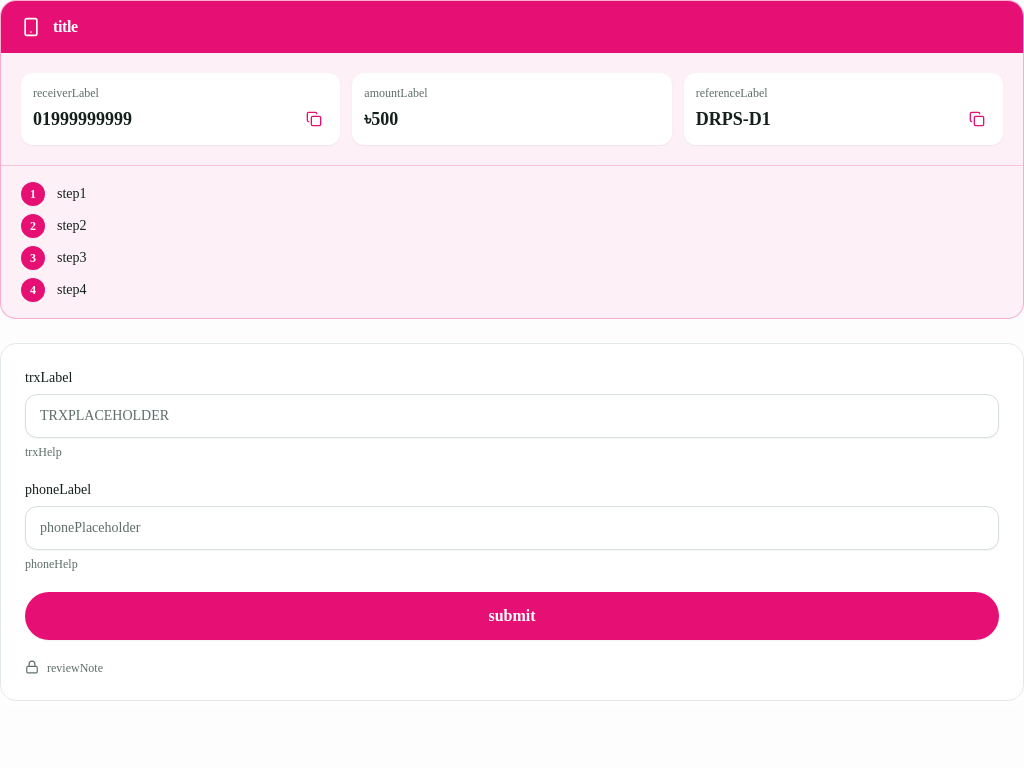
Scenario: TrxForm › shows the translated message for a reused TrxID
Type "BK8XQ2M1ZP" into the field labelled "trxLabel" at (512, 416), box [25, 394, 999, 438]
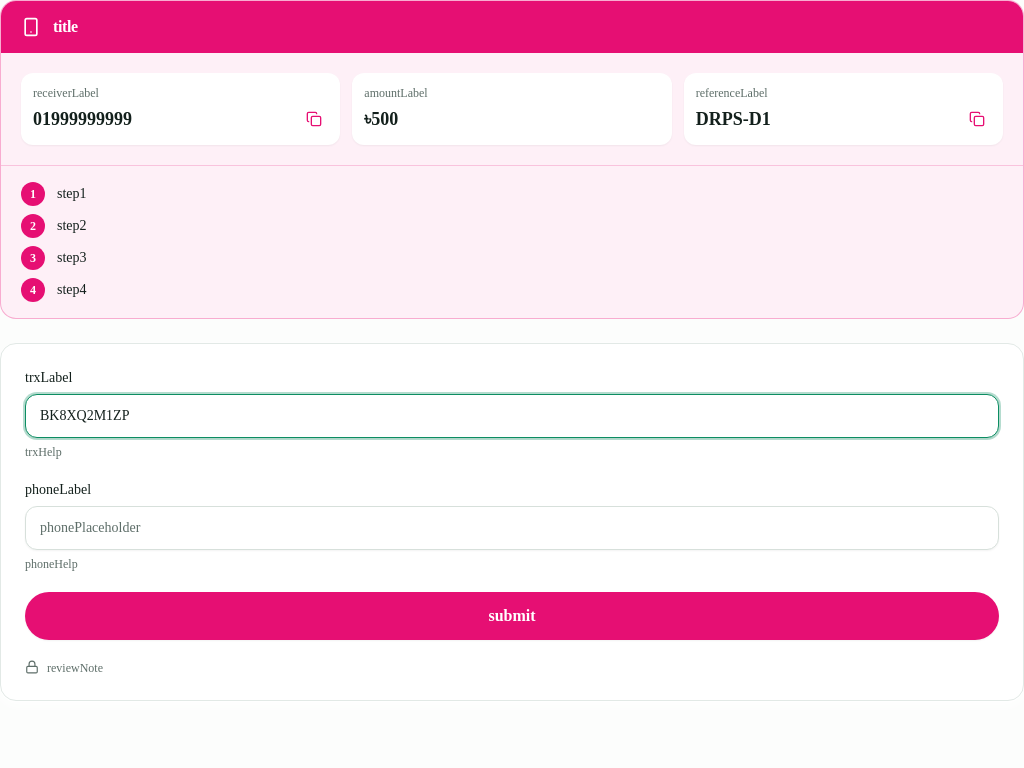
Type "01712345678" into the field labelled "phoneLabel" at (512, 528), box [25, 506, 999, 550]
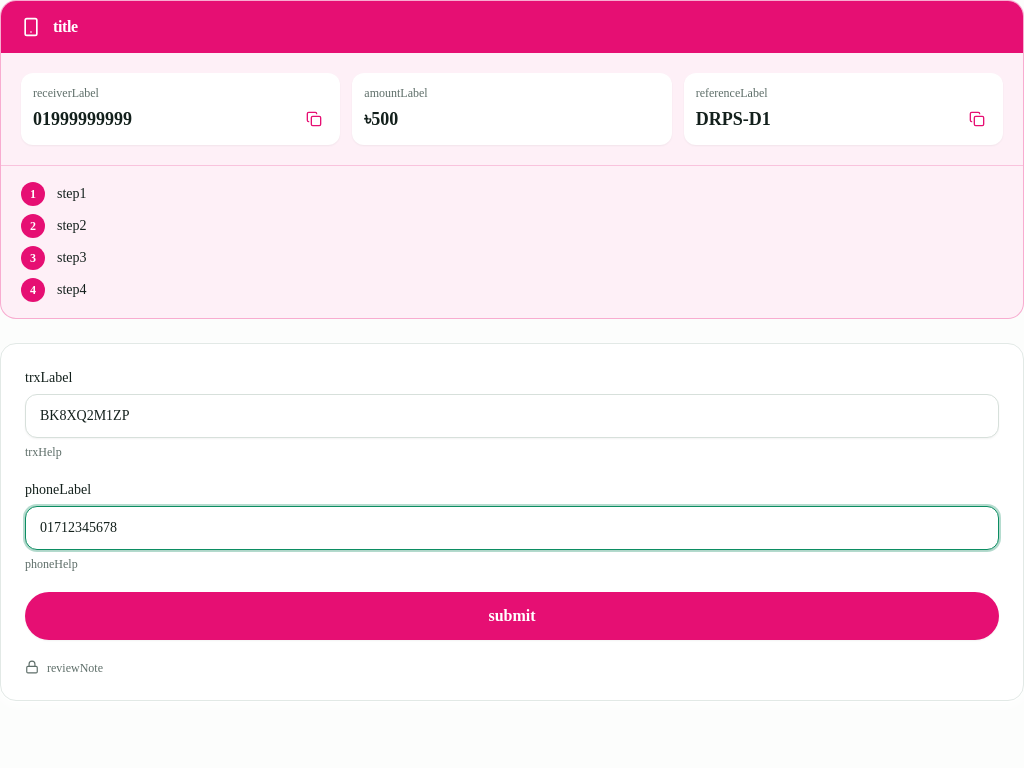
Click the button "submit" at (512, 616), box [25, 592, 999, 640]
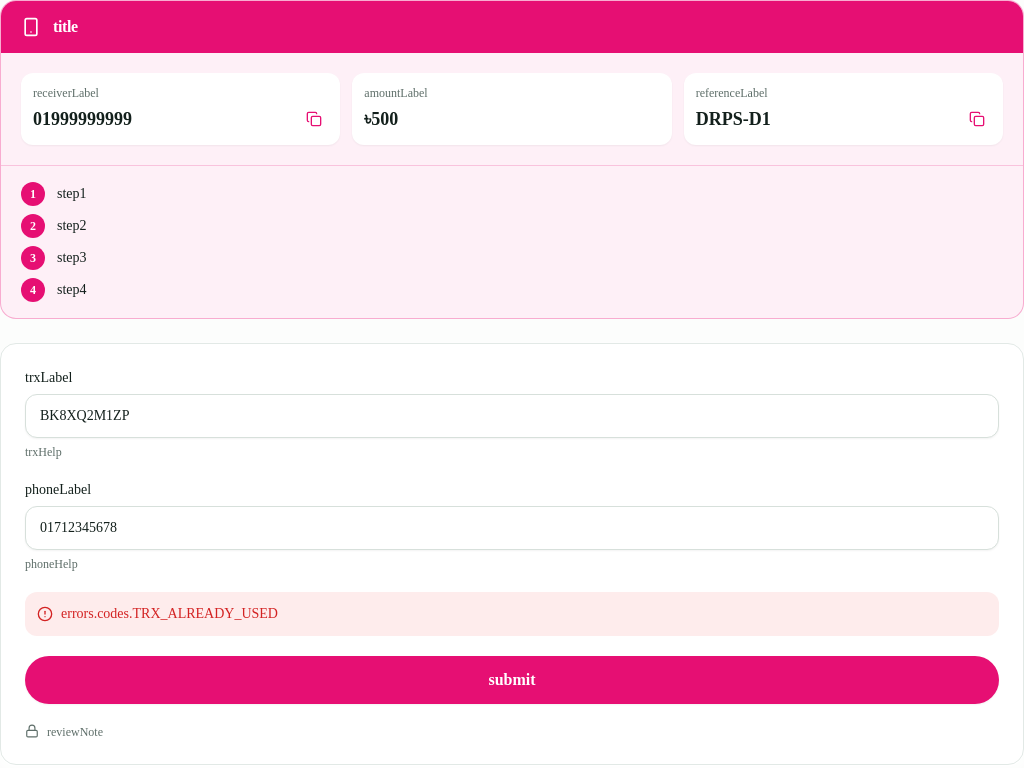
Expected: the message reads "errors.codes.TRX_ALREADY_USED", [61, 606, 278, 621]
